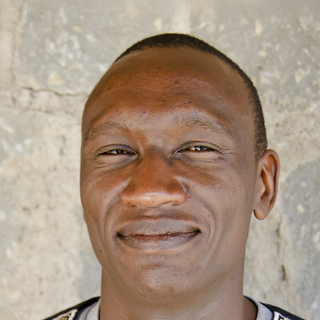eye: (174, 138, 223, 162), (95, 141, 142, 165)
